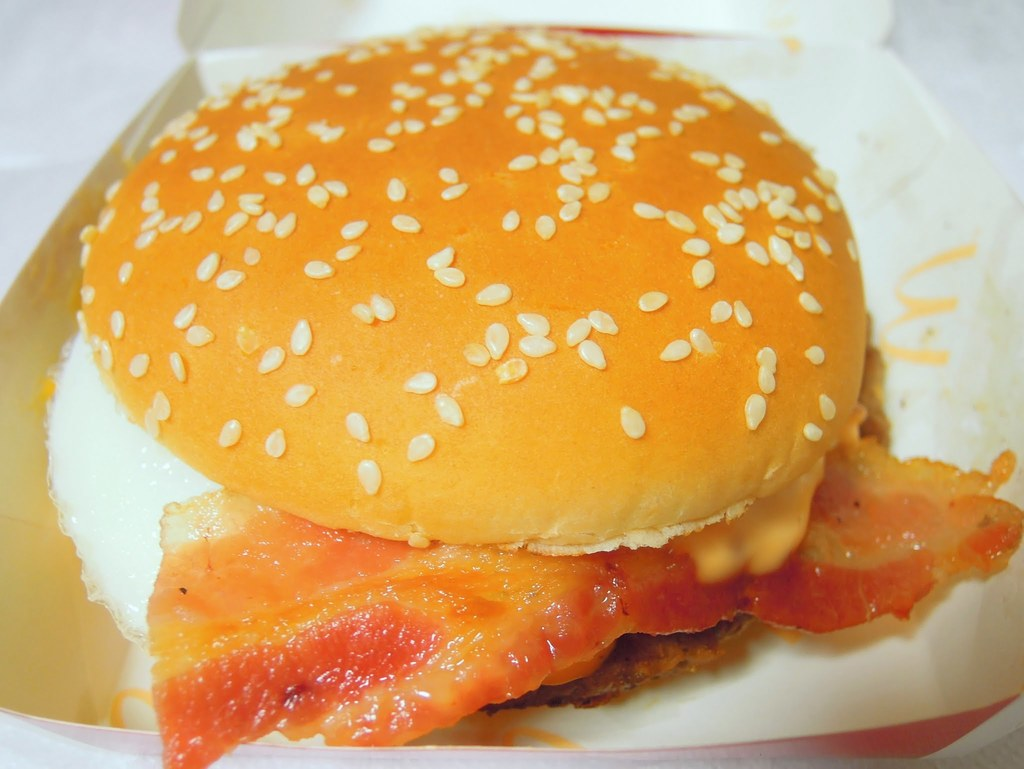Hamburger: (42, 23, 1023, 768)
